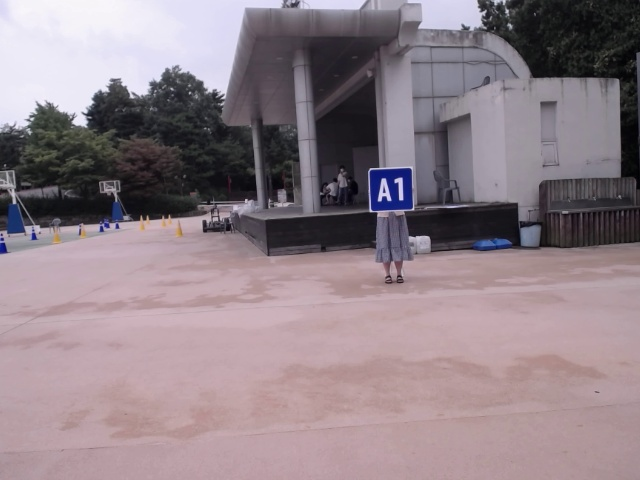delivery_a1: (369, 166, 414, 213)
